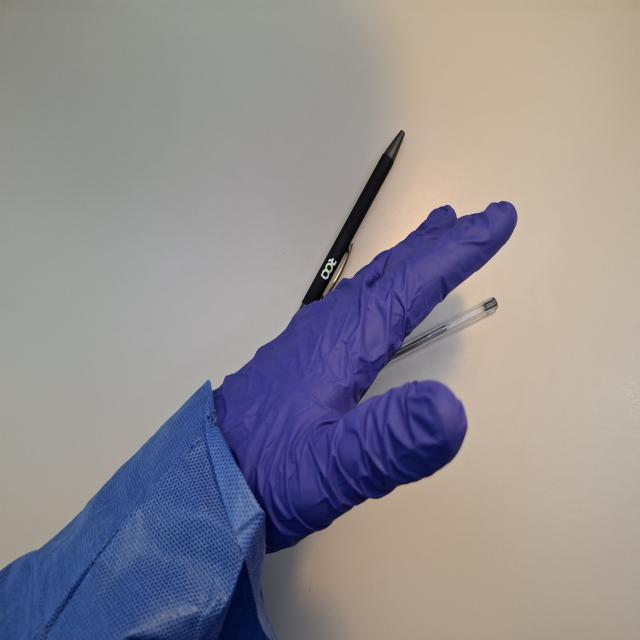glove_on: (208, 198, 520, 558)
